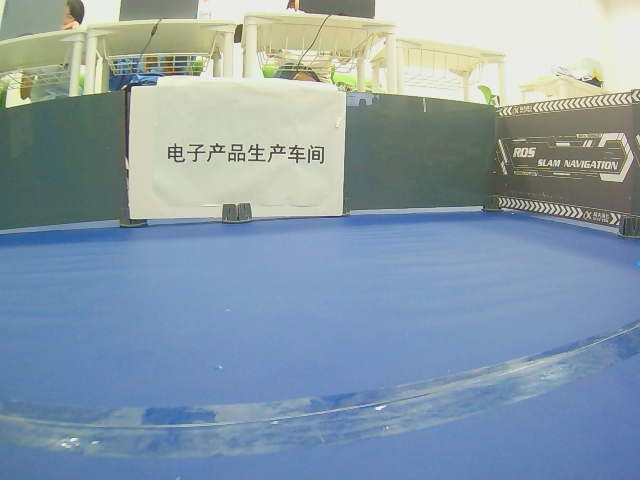target: (165, 142, 326, 165)
